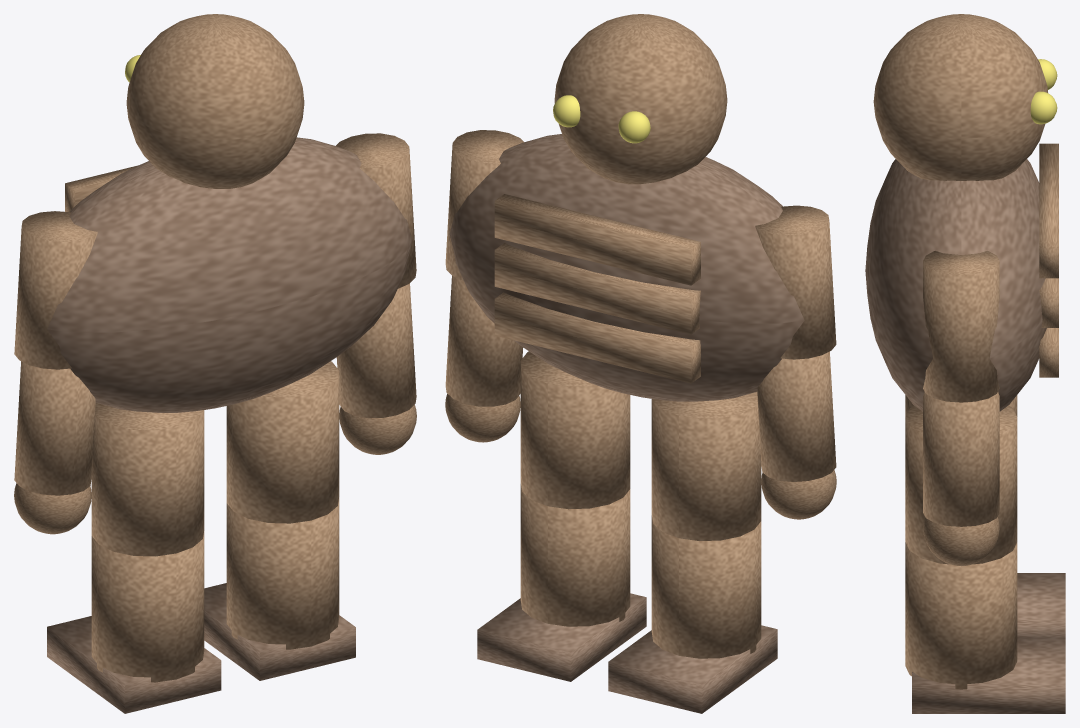
Rendered from gashadokuro.glb.
The picture shows the model from 3 angles, left to right: view 1: azimuth 30°, elevation 25°; view 2: azimuth 150°, elevation 25°; view 3: azimuth 270°, elevation 25°; orthographic projection. The views are drawn at different scales.
Parts seen in each view (by area): view 1: Torso, Head, ThighL, ThighR, ShinR, ShinL, ForearmL, UpperArmL, ForearmR, FootL, FootR, UpperArmR (+3 smaller); view 2: Torso, Head, ThighL, ThighR, ShinL, ShinR, Rib2, ForearmL, Rib1, Rib0, FootR, FootL (+7 smaller); view 3: Torso, Head, ShinR, UpperArmR, ForearmR, FootR, ThighR, FootL, Rib2, HandR, Rib0, Rib1 (+2 smaller).
Part boxes in pixels (x1,y1,x2,y2): Torso: (47, 137, 412, 412); Head: (126, 14, 304, 188); ThighL: (91, 403, 204, 556); ThighR: (226, 361, 339, 523); ShinR: (226, 497, 339, 649); ShinL: (91, 531, 204, 682); ForearmL: (14, 361, 95, 495); UpperArmL: (14, 211, 97, 369); ForearmR: (336, 283, 416, 418); FootL: (47, 616, 221, 713); FootR: (204, 583, 355, 680); UpperArmR: (336, 133, 416, 288); Torso: (449, 134, 804, 401); Head: (554, 14, 727, 184); ThighL: (651, 392, 761, 540); ThighR: (520, 351, 630, 509); ShinL: (651, 515, 761, 658); ShinR: (520, 484, 630, 626); Rib2: (494, 194, 700, 285); ForearmL: (757, 351, 836, 481); Rib1: (494, 243, 700, 334); Rib0: (494, 292, 700, 383); FootR: (477, 593, 646, 681); FootL: (608, 625, 777, 713); Torso: (865, 159, 1046, 411); Head: (873, 14, 1047, 180); ShinR: (905, 542, 1017, 689); UpperArmR: (923, 251, 999, 402); ForearmR: (923, 392, 999, 526); FootR: (912, 637, 1065, 713); ThighR: (905, 405, 1017, 564); FootL: (1017, 573, 1065, 637); Rib2: (1039, 143, 1058, 278); HandR: (923, 517, 999, 566); Rib0: (1039, 328, 1058, 377); Rib1: (1039, 278, 1058, 327).
Size of the model in its own units: 0.6367 by 1 by 0.2852.
4 materials, 3 textured.
